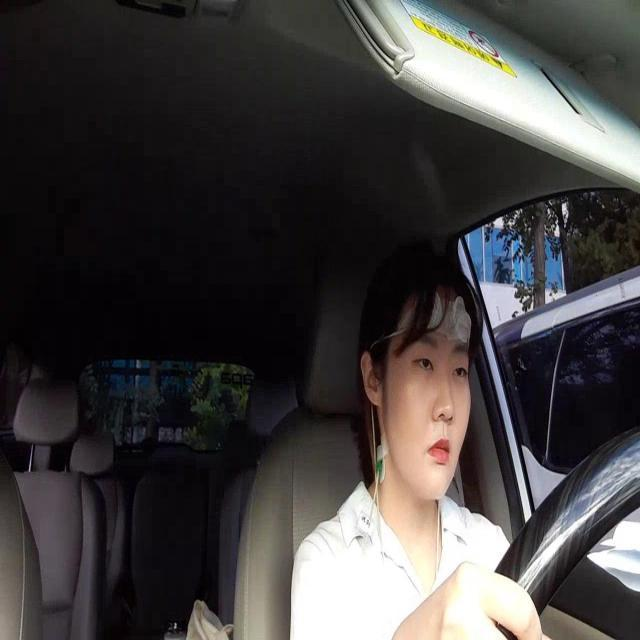Attentive: (358, 238, 472, 504)
